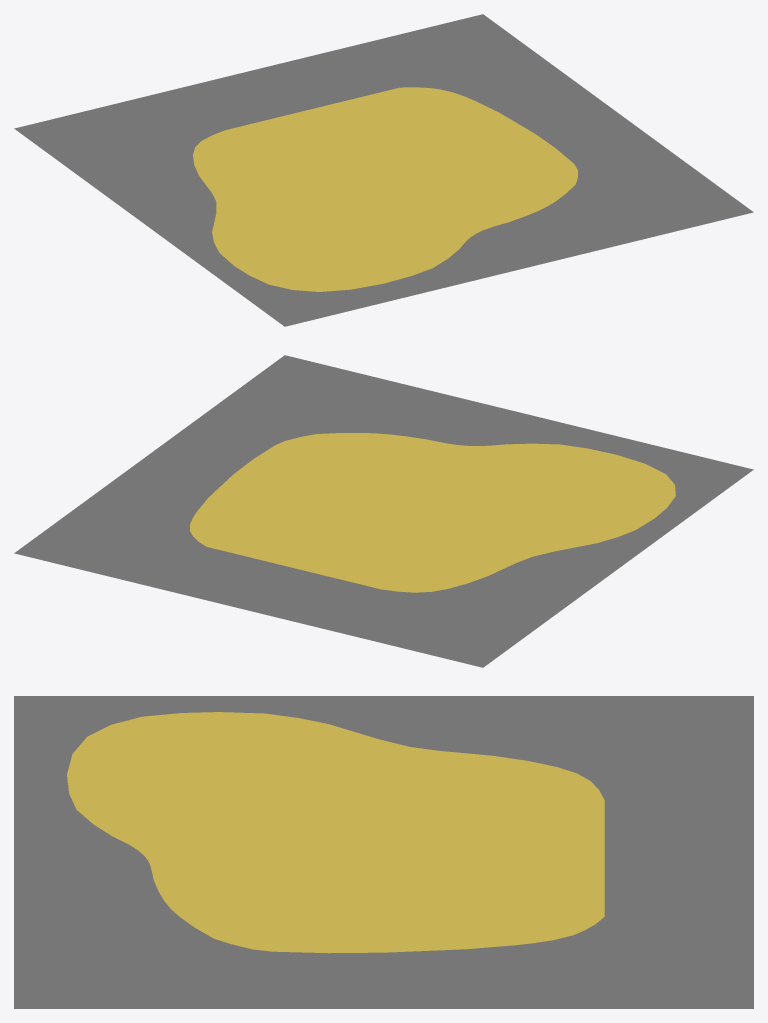
File: ground01.fbx
3 renders of one model, top to bottom at view 1: azimuth 30°, elevation 25°; view 2: azimuth 150°, elevation 25°; view 3: azimuth 270°, elevation 25°, orthographic. The views are drawn at different scales.
Visible parts, largest first — view 1: ground01, Object1881; view 2: ground01, Object1881; view 3: ground01, Object1881.
Boxes of the visible parts, x1,y1,x2,y2 form: ground01: (14,14,753,326); Object1881: (193,87,577,291); ground01: (14,355,753,667); Object1881: (190,433,675,592); ground01: (14,696,753,1008); Object1881: (67,712,604,953).
Bounding box in the file's own units: 637116 × 251 × 637116.
